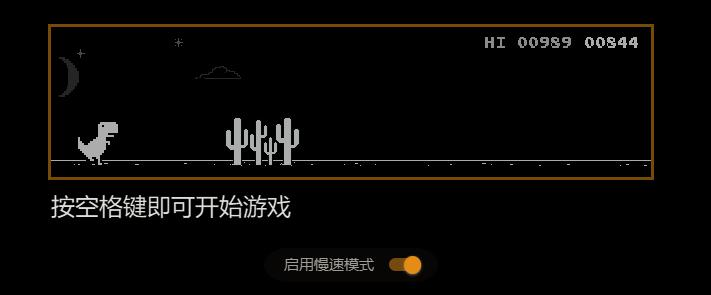cactus: (224, 117, 301, 167)
dino: (75, 121, 119, 165)
